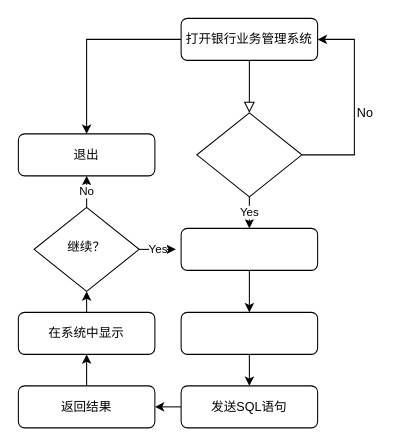
This 399x446 diagram has some shape labels left out. Each missing label, with the centre of its shape:
"连接数据库" goes at (x=249, y=154).
"选择功能模块" goes at (x=249, y=248).
"选择增删改查操作" goes at (x=249, y=332).
